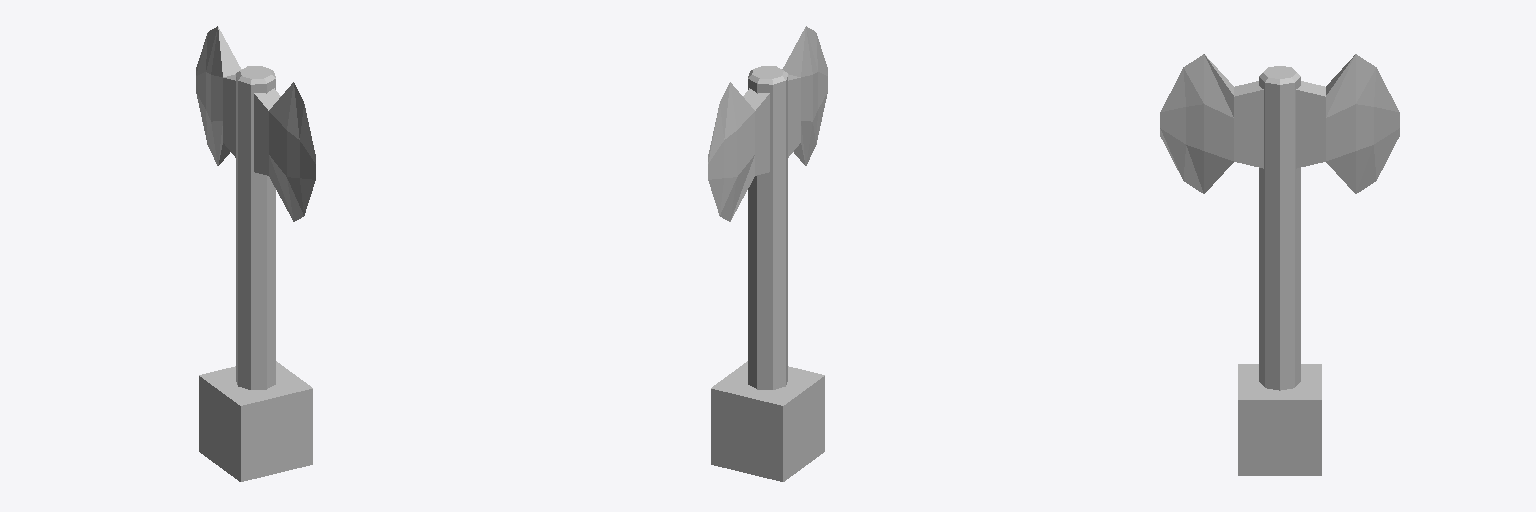
The model's file is Battleaxe.obj.
The picture shows the model from 3 angles: view 1: azimuth 30°, elevation 25°; view 2: azimuth 150°, elevation 25°; view 3: azimuth 270°, elevation 25°; orthographic projection.
Visible parts, largest first — view 1: Cube.001; view 2: Cube.001; view 3: Cube.001.
Part boxes in pixels (left/top/right/bottom): Cube.001: left=196, top=26, right=315, bottom=481; Cube.001: left=708, top=26, right=827, bottom=481; Cube.001: left=1160, top=54, right=1399, bottom=475.
Size of the model in its own units: 0.1 by 0.53 by 0.2847.